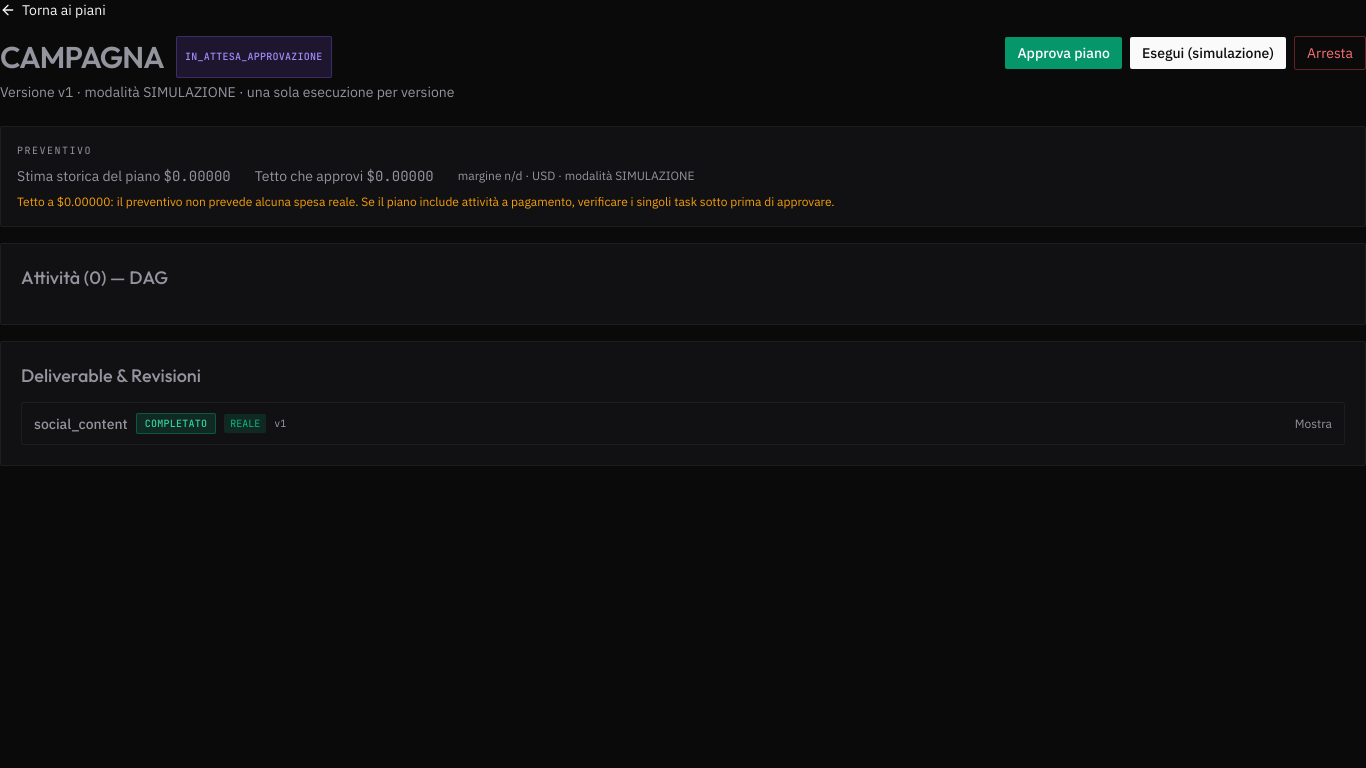
Scenario: PlanDetail — revisione editoriale sulle bozze 'social_content' › una bozza già decisa mostra l'esito e la motivazione, senza più i pulsanti di decisione
Click the button with test id "deliv-toggle-social_content": (1313, 424) [1295,416,1332,432]
(page scrolled)
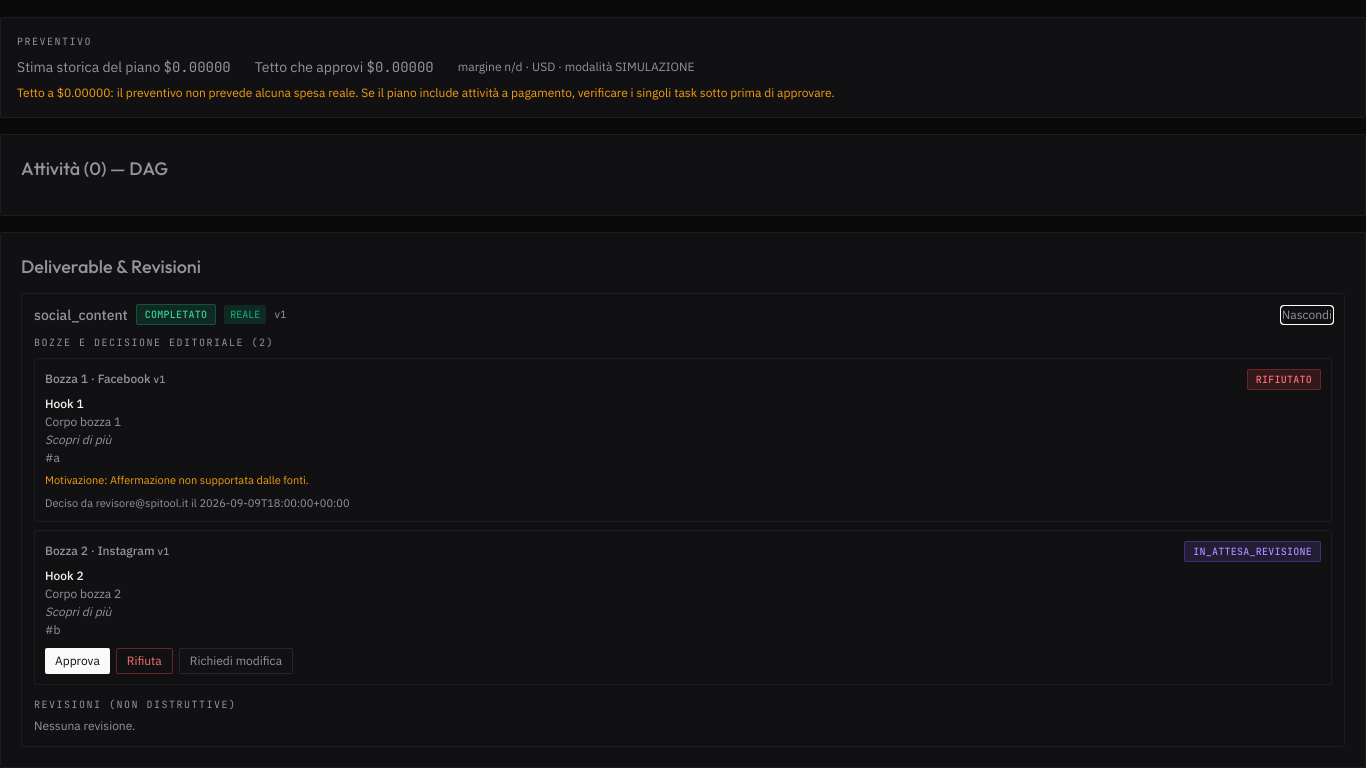
Expected: the text with test id "item-reason-social_content-0" shows "Affermazione non supportata dalle fonti.", [110,473,309,487]
Expected: the text with test id "item-status-social_content-0" reads "RIFIUTATO", [1256,373,1312,386]
Expected: the button with test id "item-approve-social_content-1" is shown, [45,648,110,674]
